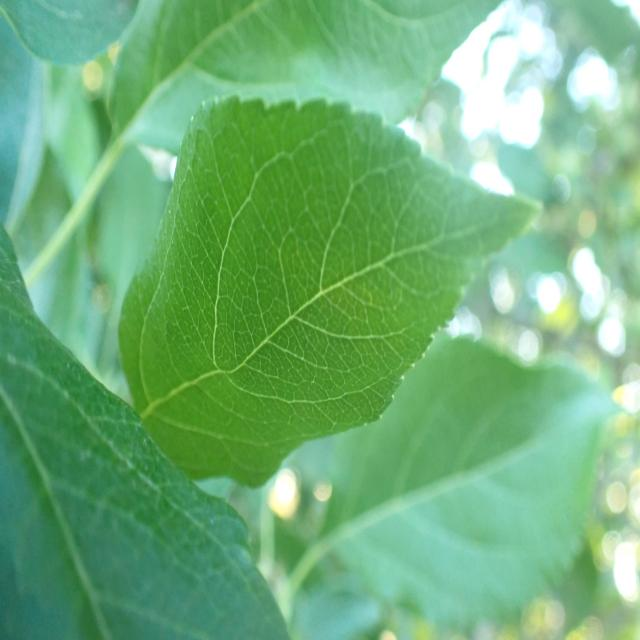healthy: (117, 95, 544, 488), (0, 224, 294, 640), (107, 0, 503, 151)
